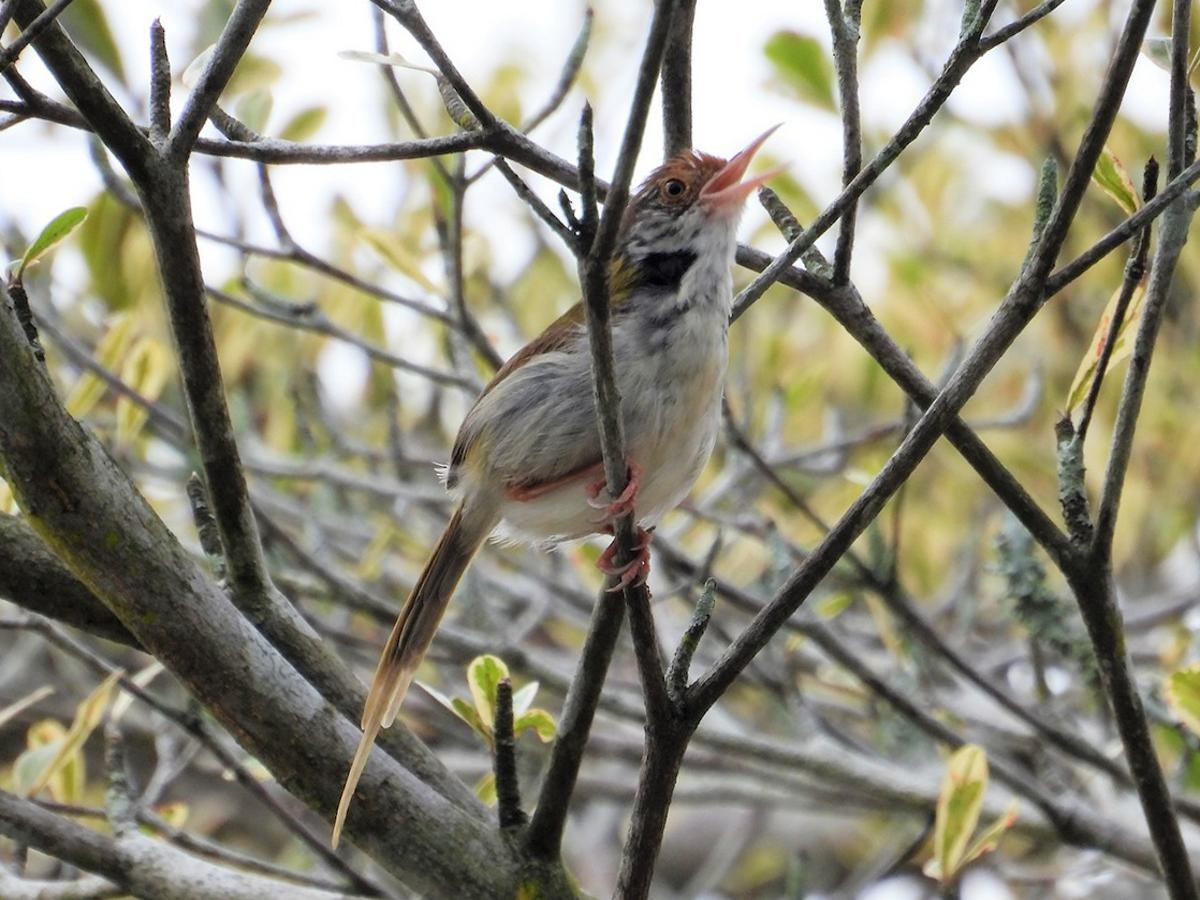tailorbird: (328, 124, 793, 713)
